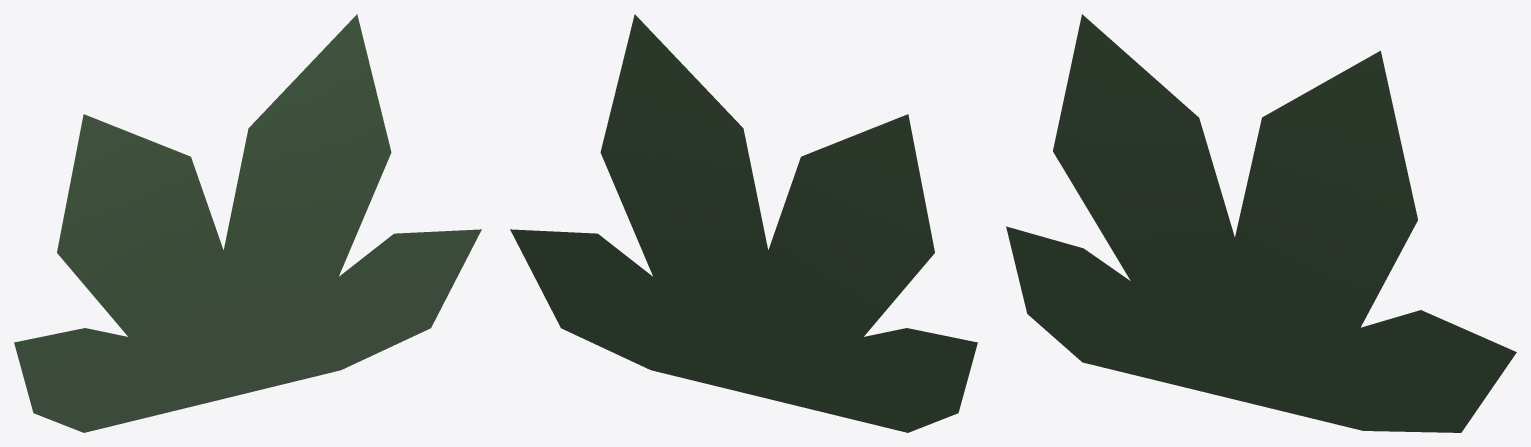
The model's file is BG_047_grass.FBX.
The picture shows the model from 3 angles, left to right: view 1: azimuth 30°, elevation 25°; view 2: azimuth 150°, elevation 25°; view 3: azimuth 330°, elevation 25°; orthographic projection. The views are drawn at different scales.
Visible parts, largest first — view 1: BG_047_grass; view 2: BG_047_grass; view 3: BG_047_grass.
Part boxes in pixels (bbox=[...]): BG_047_grass: bbox=[14, 14, 481, 432]; BG_047_grass: bbox=[510, 14, 977, 432]; BG_047_grass: bbox=[1006, 14, 1516, 432].
Bounding box in the file's own units: 57.43 × 41.32 × 1.42e-05.
